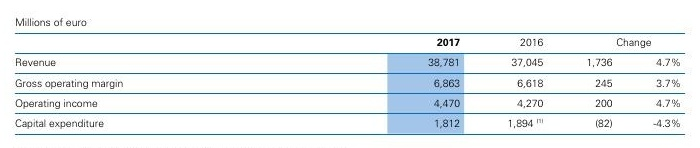table: (0, 0, 700, 148)
